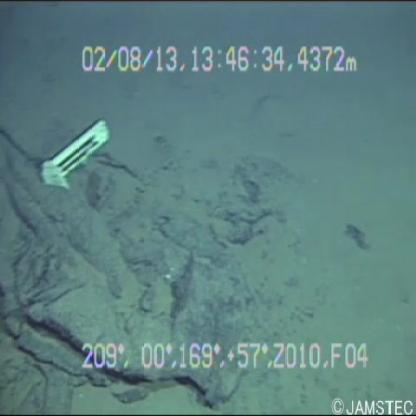Rác: (28, 107, 116, 196)
